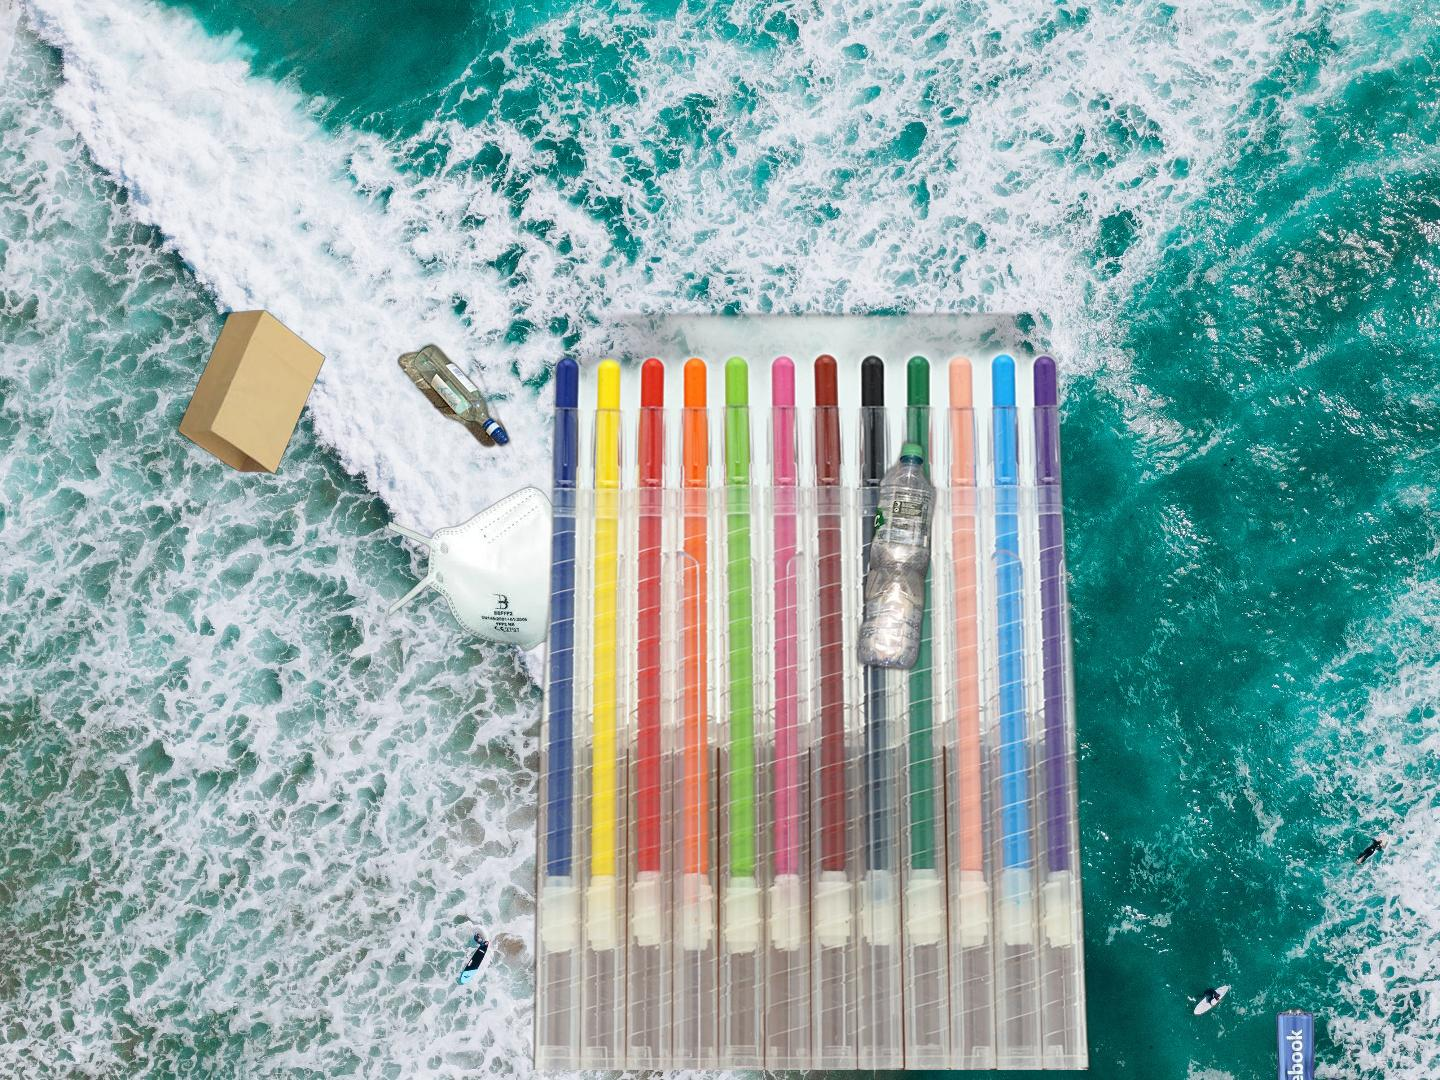battery: (1273, 1004, 1433, 1080)
clothes: (622, 549, 956, 914)
glass: (393, 324, 531, 489)
paper-bag: (175, 307, 328, 475)
penholder: (497, 268, 1096, 1070)
plastic-bottles: (852, 436, 941, 676)
trash: (386, 484, 573, 653)
